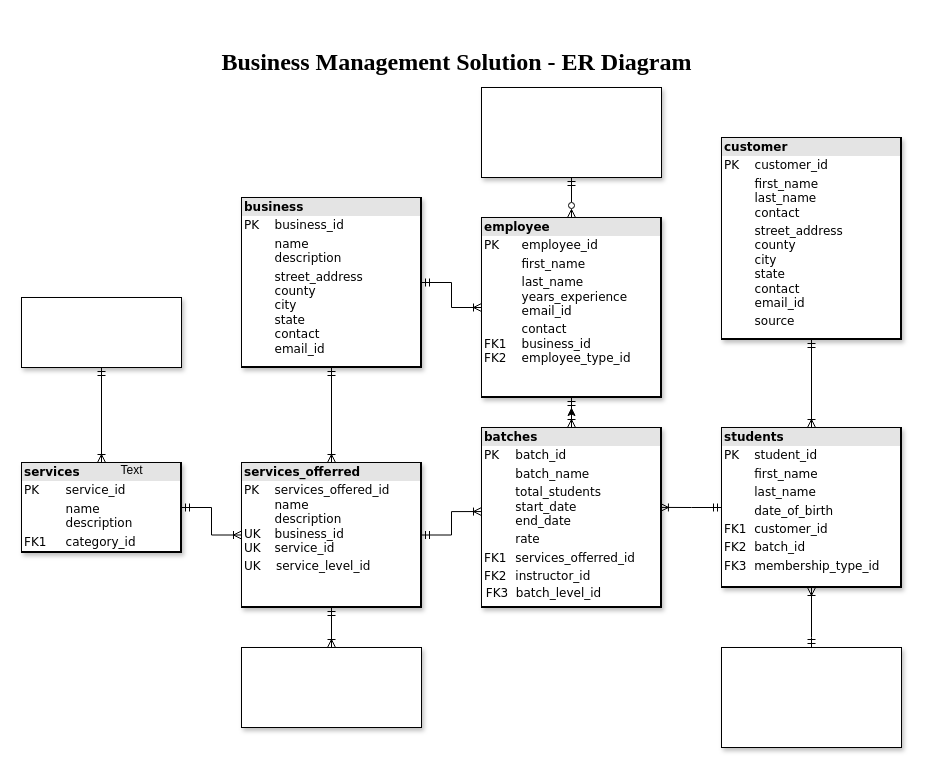
The diagram is 925 pixels wide and 772 high, and some of its shapes have lost their labels. The shapes that lost their labels are listed below. From the top down, each one's centre as x and y in pixels, then its label:
At (572,133): "employee_type PK employee_type_id employee_type description is_fulltime".
At (102,333): "service_category PK category_id name".
At (332,688): "service_level PK service_level_id name description".
At (812,698): "membership_type PK membership_type_id membership_name description discount_per".
